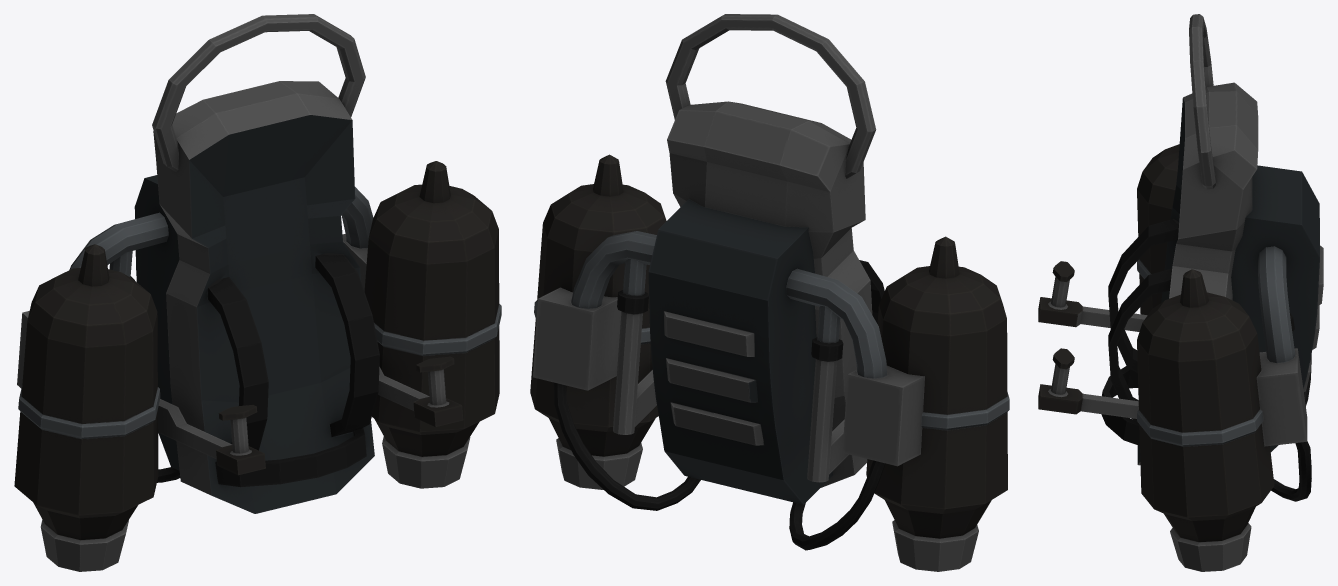
The model's file is placeholder_jetpack.glb.
3 renders of one model, left to right at view 1: azimuth 30°, elevation 25°; view 2: azimuth 150°, elevation 25°; view 3: azimuth 270°, elevation 25°, orthographic. The views are drawn at different scales.
Visible parts, largest first — view 1: Jetpack_mesh; view 2: Jetpack_mesh; view 3: Jetpack_mesh.
Part boxes in pixels (box(x1,y1,x2,y2)): Jetpack_mesh: box(14, 14, 501, 571); Jetpack_mesh: box(530, 14, 1009, 571); Jetpack_mesh: box(1038, 14, 1323, 571).
Size of the model in its own units: 0.5722 by 0.5968 by 0.3376.
Materials: 1 (1 with a texture image).
